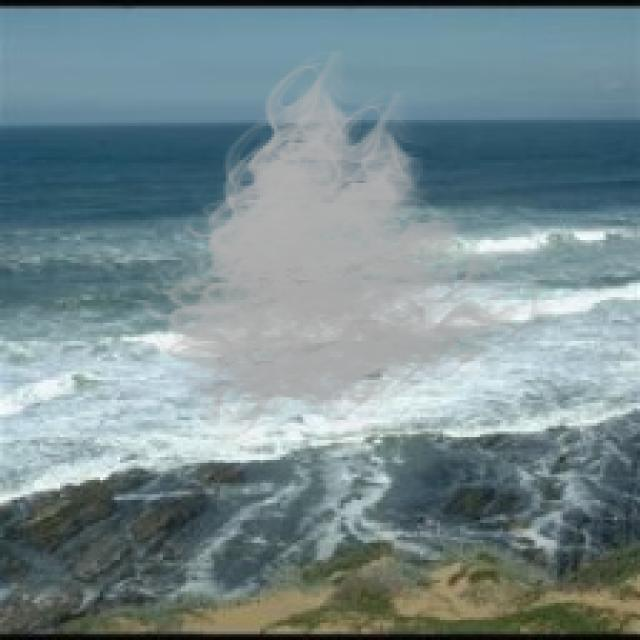smoke: (129, 51, 554, 448)
